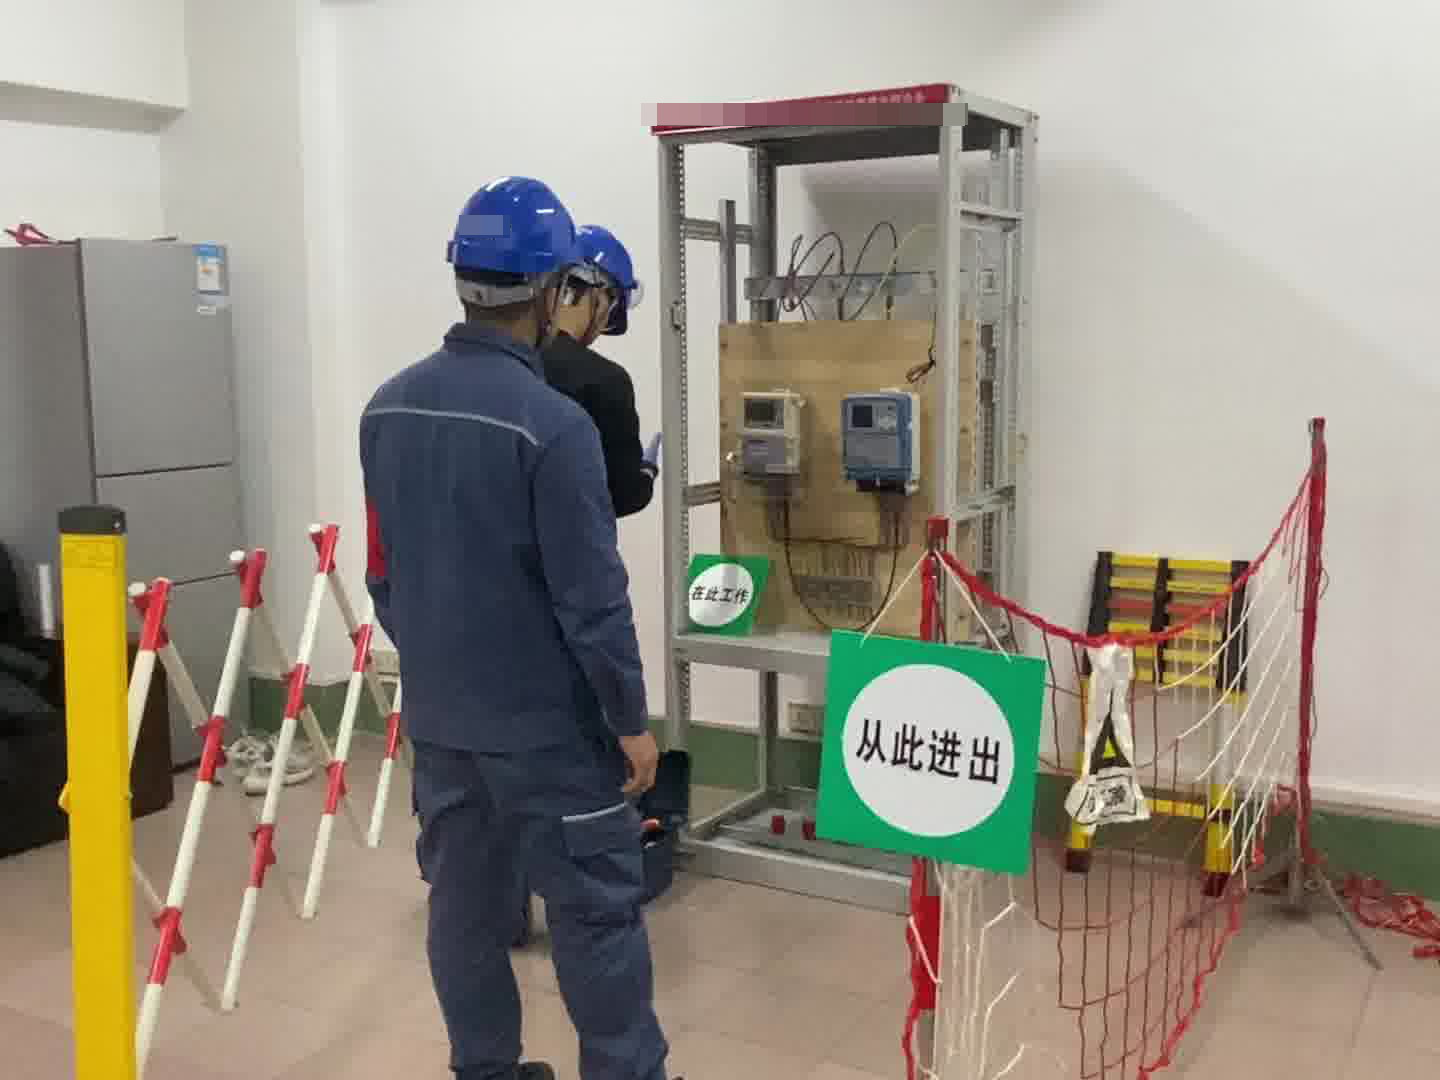badge: (360, 496, 387, 582)
downsuit: (413, 764, 679, 1080)
halt: (445, 175, 588, 341), (564, 221, 644, 345)
hand: (619, 727, 670, 799)
inear: (523, 268, 572, 338), (583, 266, 623, 339)
intosign: (811, 628, 1047, 877)
person: (355, 169, 700, 1080)
upsuit: (357, 336, 654, 751)
worksign: (681, 552, 773, 644)
